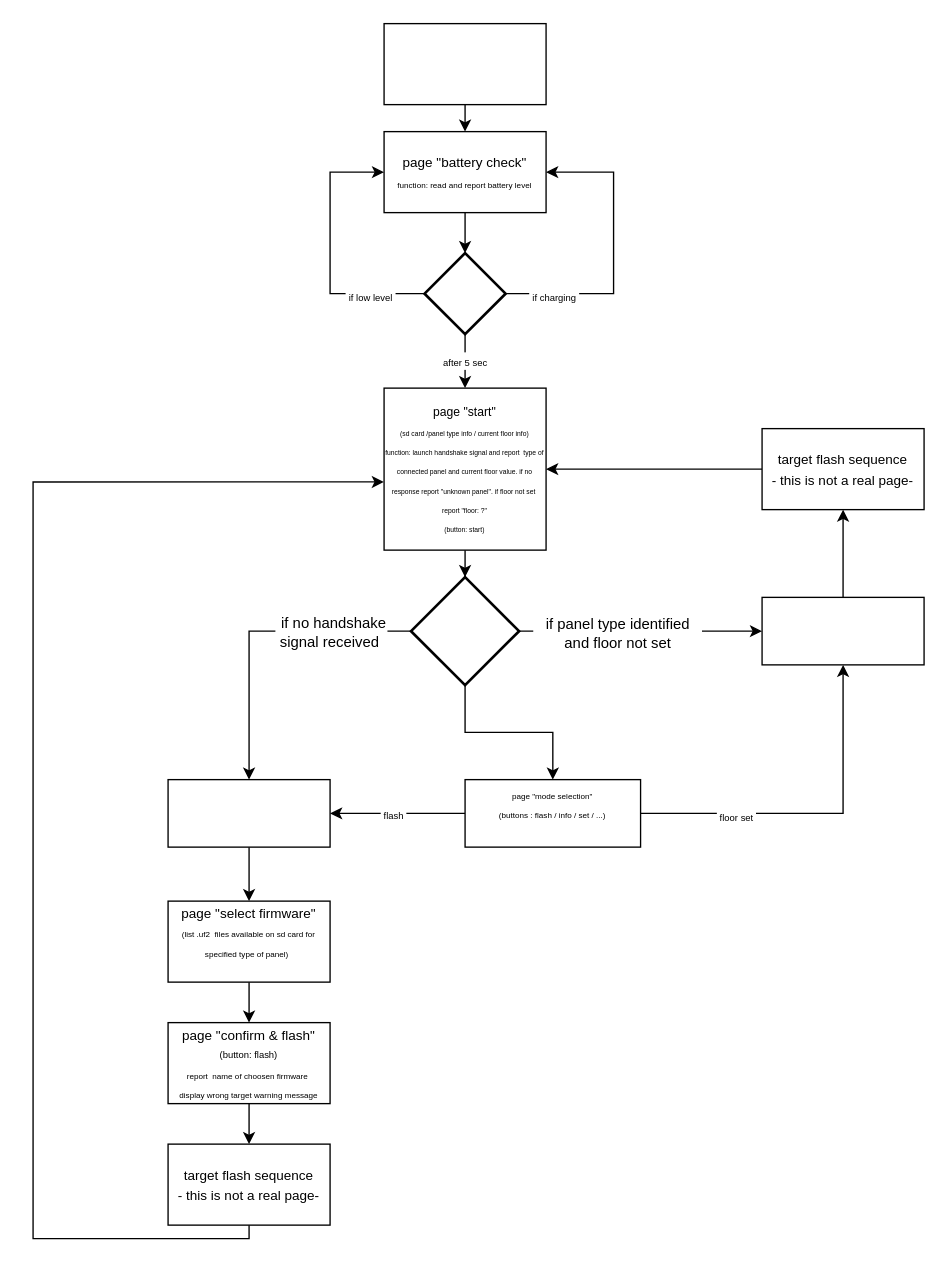
Image size: 948x1273. Some labels were removed from this diagram. The centre of each missing label's shape, as x and y in pixels:
boot sequence (system initialization) - this is not a real menu page ! -: pixel 464 63
current floor set page: pixel 842 630
page "panel type selection" (buttons: duplex/simplex/cab): pixel 248 812
